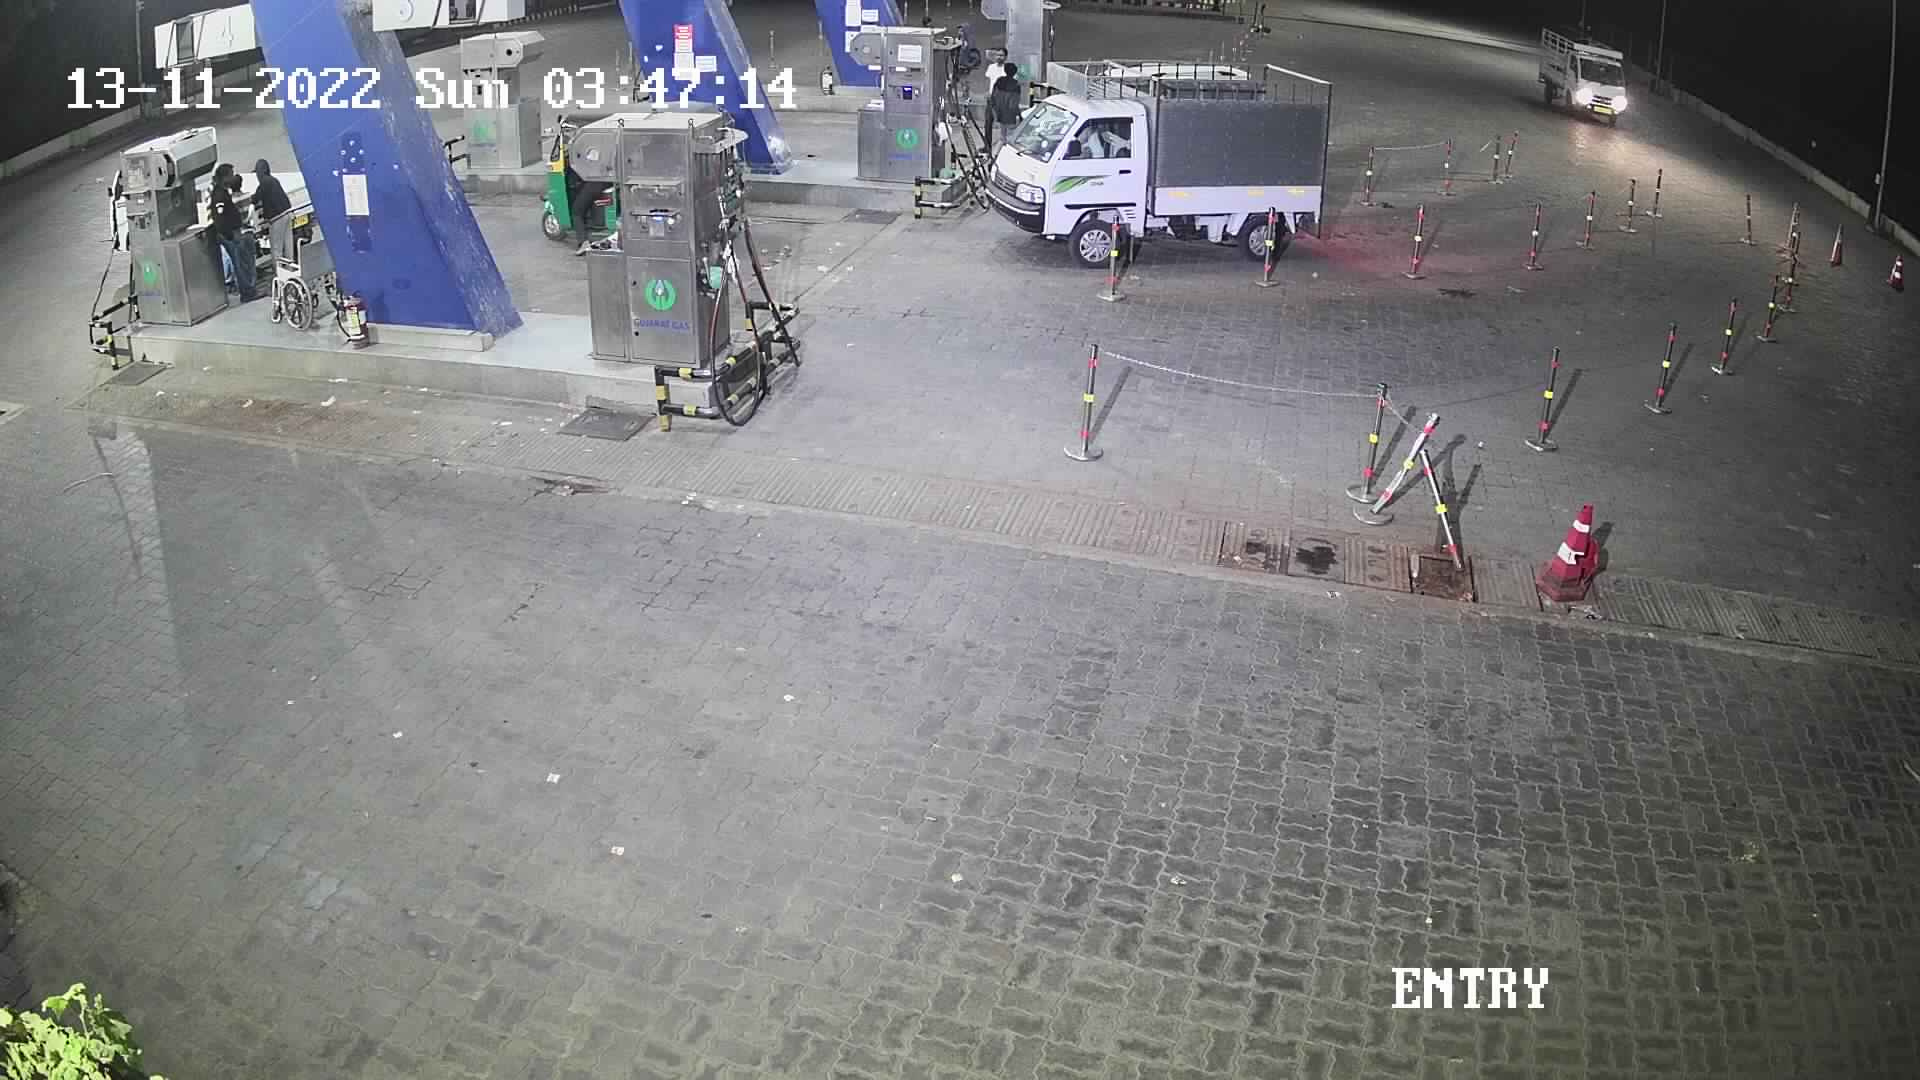Auto: (530, 90, 757, 264)
Car: (976, 47, 1344, 273), (99, 120, 324, 295), (1528, 8, 1648, 135)
